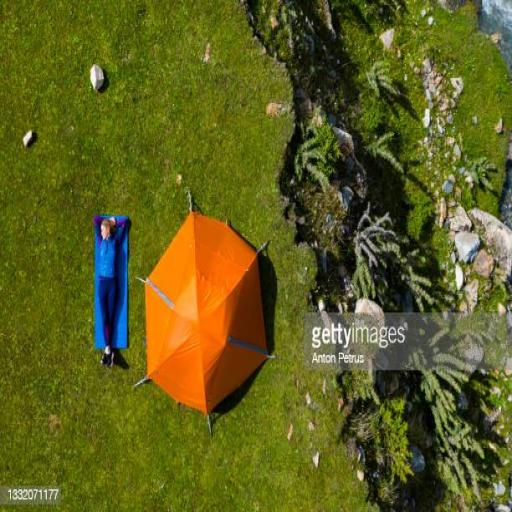Tent: (136, 201, 271, 428)
